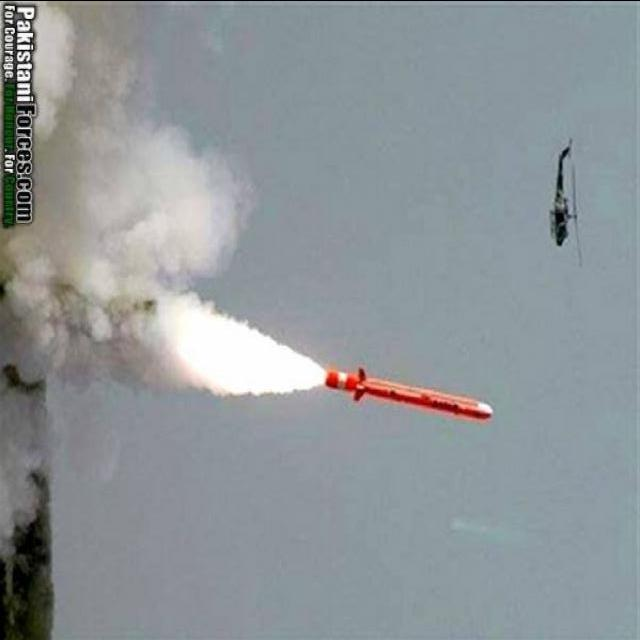Missile: (317, 353, 497, 428)
